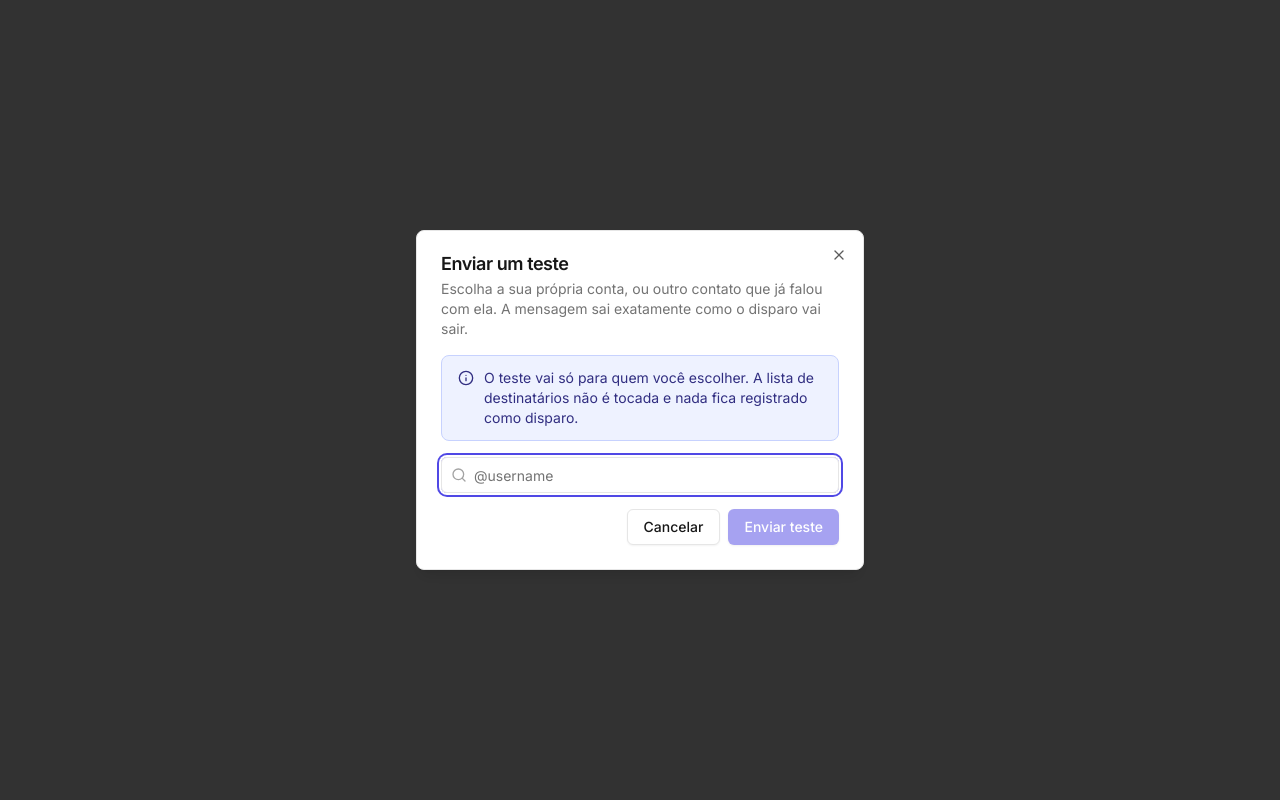
Test case: TestBroadcastDialog › asks for confirmation before anything leaves
This screenshot has width=1280, height=800.
Type "maria" into the field named "Buscar contato para o teste" at (640, 475), box left=441, top=457, right=839, bottom=493
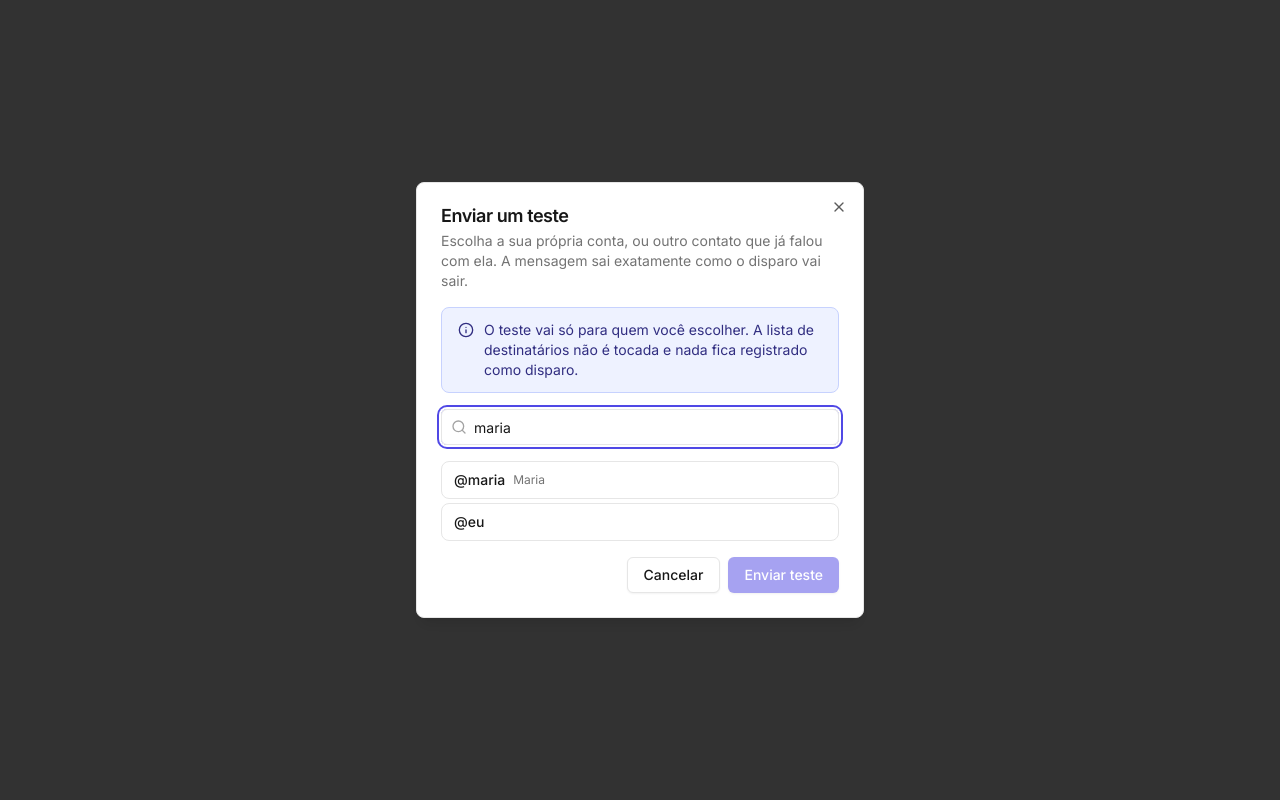
Click the radio button labelled "@maria Maria" at (486, 480), box left=441, top=461, right=839, bottom=499
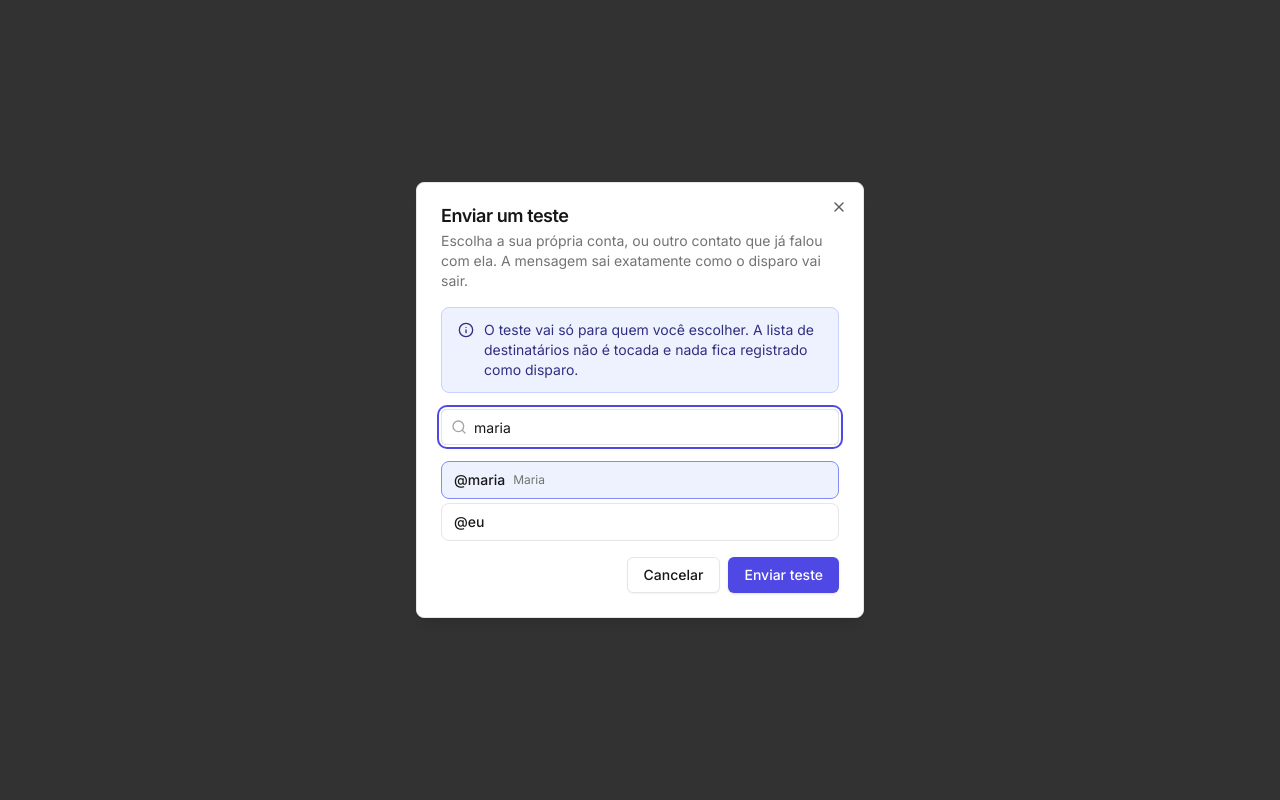
Click the button "Enviar teste" at (784, 575), box left=728, top=557, right=839, bottom=593
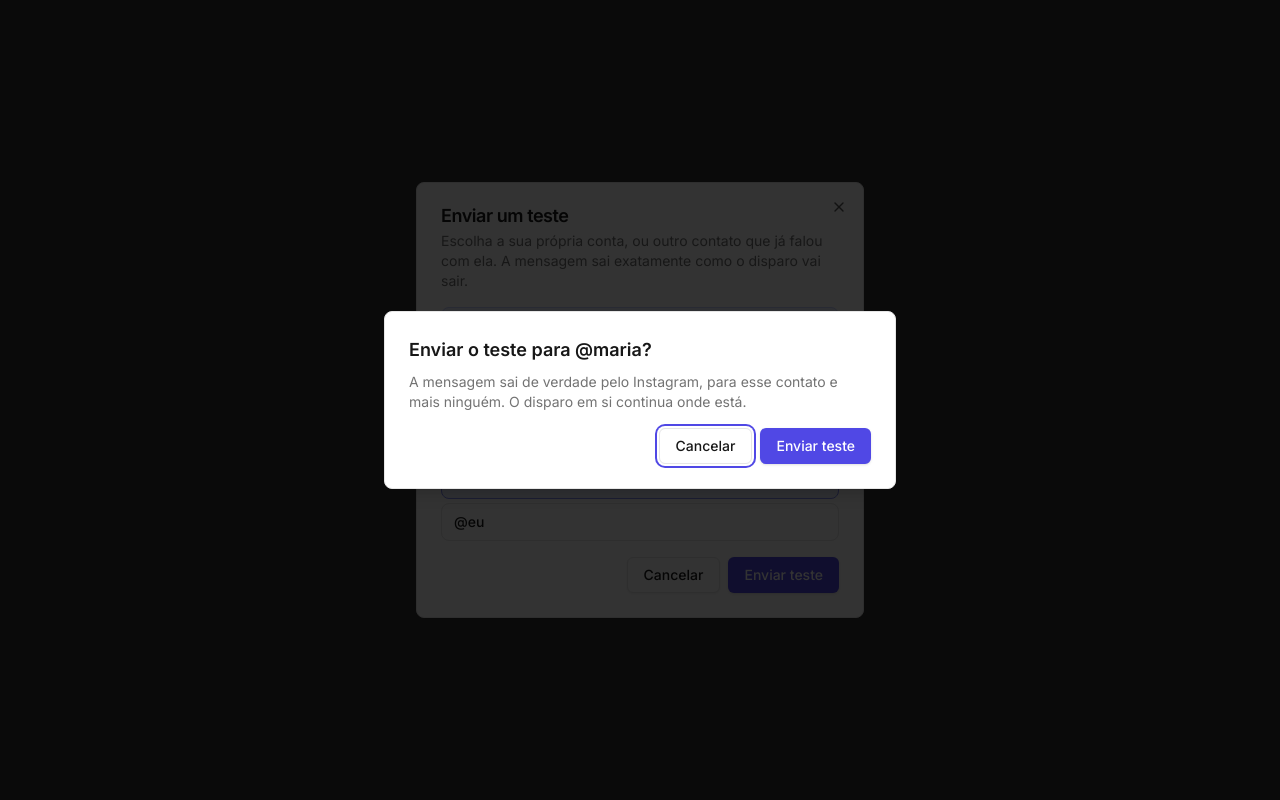
Check: the dialog that starts with "Enviar o teste para @maria?" is shown, box left=384, top=311, right=896, bottom=489
